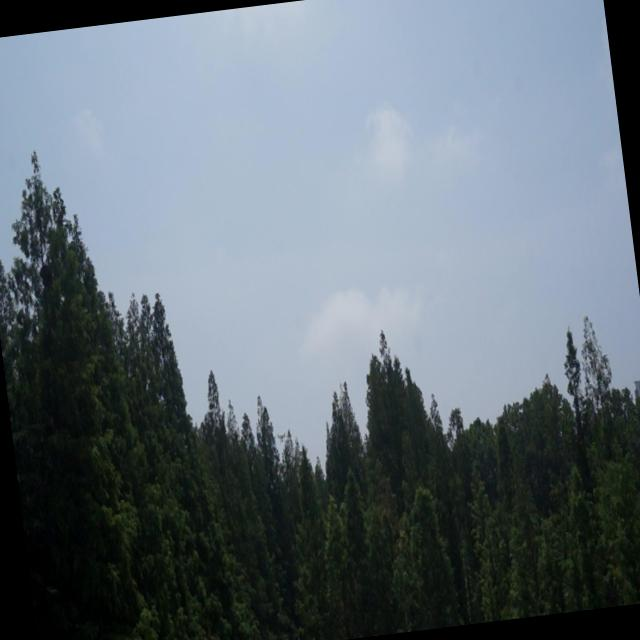drone: (276, 428, 286, 443)
